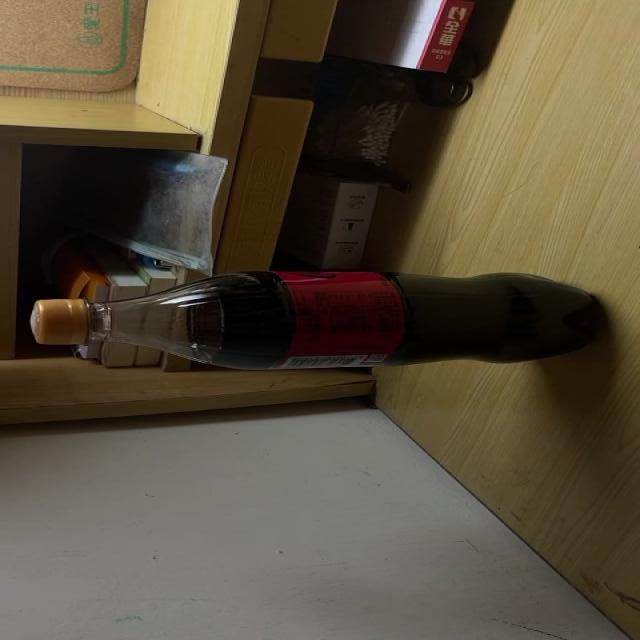Coca-Cola: (29, 268, 602, 372)
